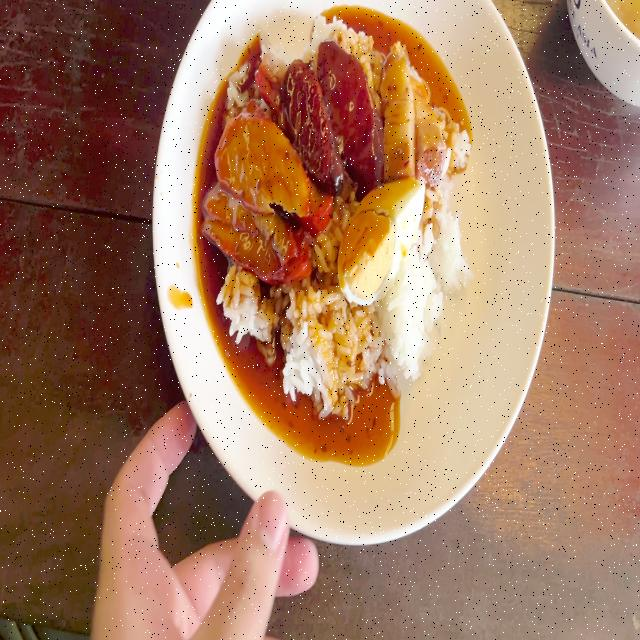boiled_egg: (339, 177, 424, 306)
chainese_sausage: (292, 42, 379, 182), (381, 37, 450, 180)
red_pork: (208, 114, 303, 274)
red_pork_and_crispy_pork: (207, 9, 471, 407)
rice: (285, 296, 366, 392), (388, 256, 432, 383), (429, 193, 469, 287), (218, 279, 269, 334), (451, 108, 471, 170)
